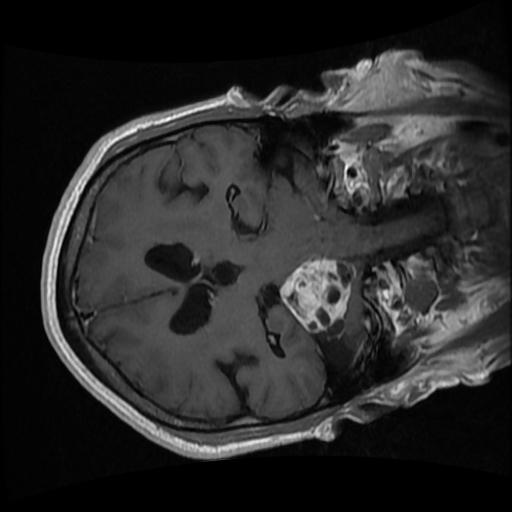meningioma: (278, 259, 357, 334)
